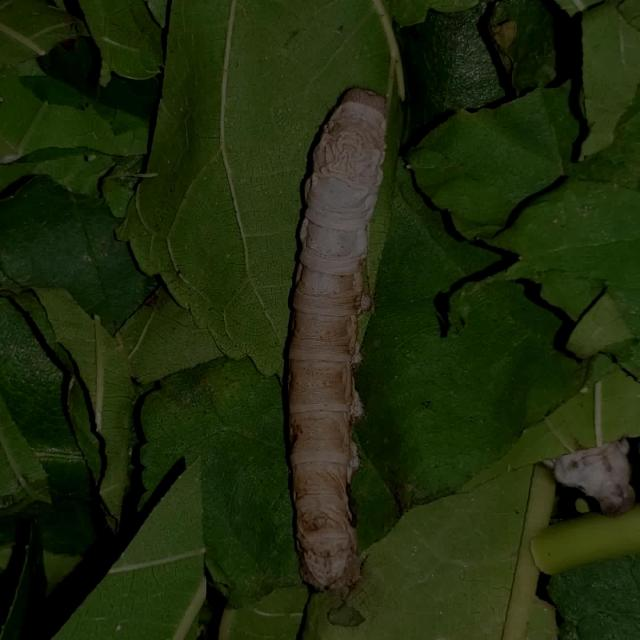Grasserie: (242, 69, 431, 614)
